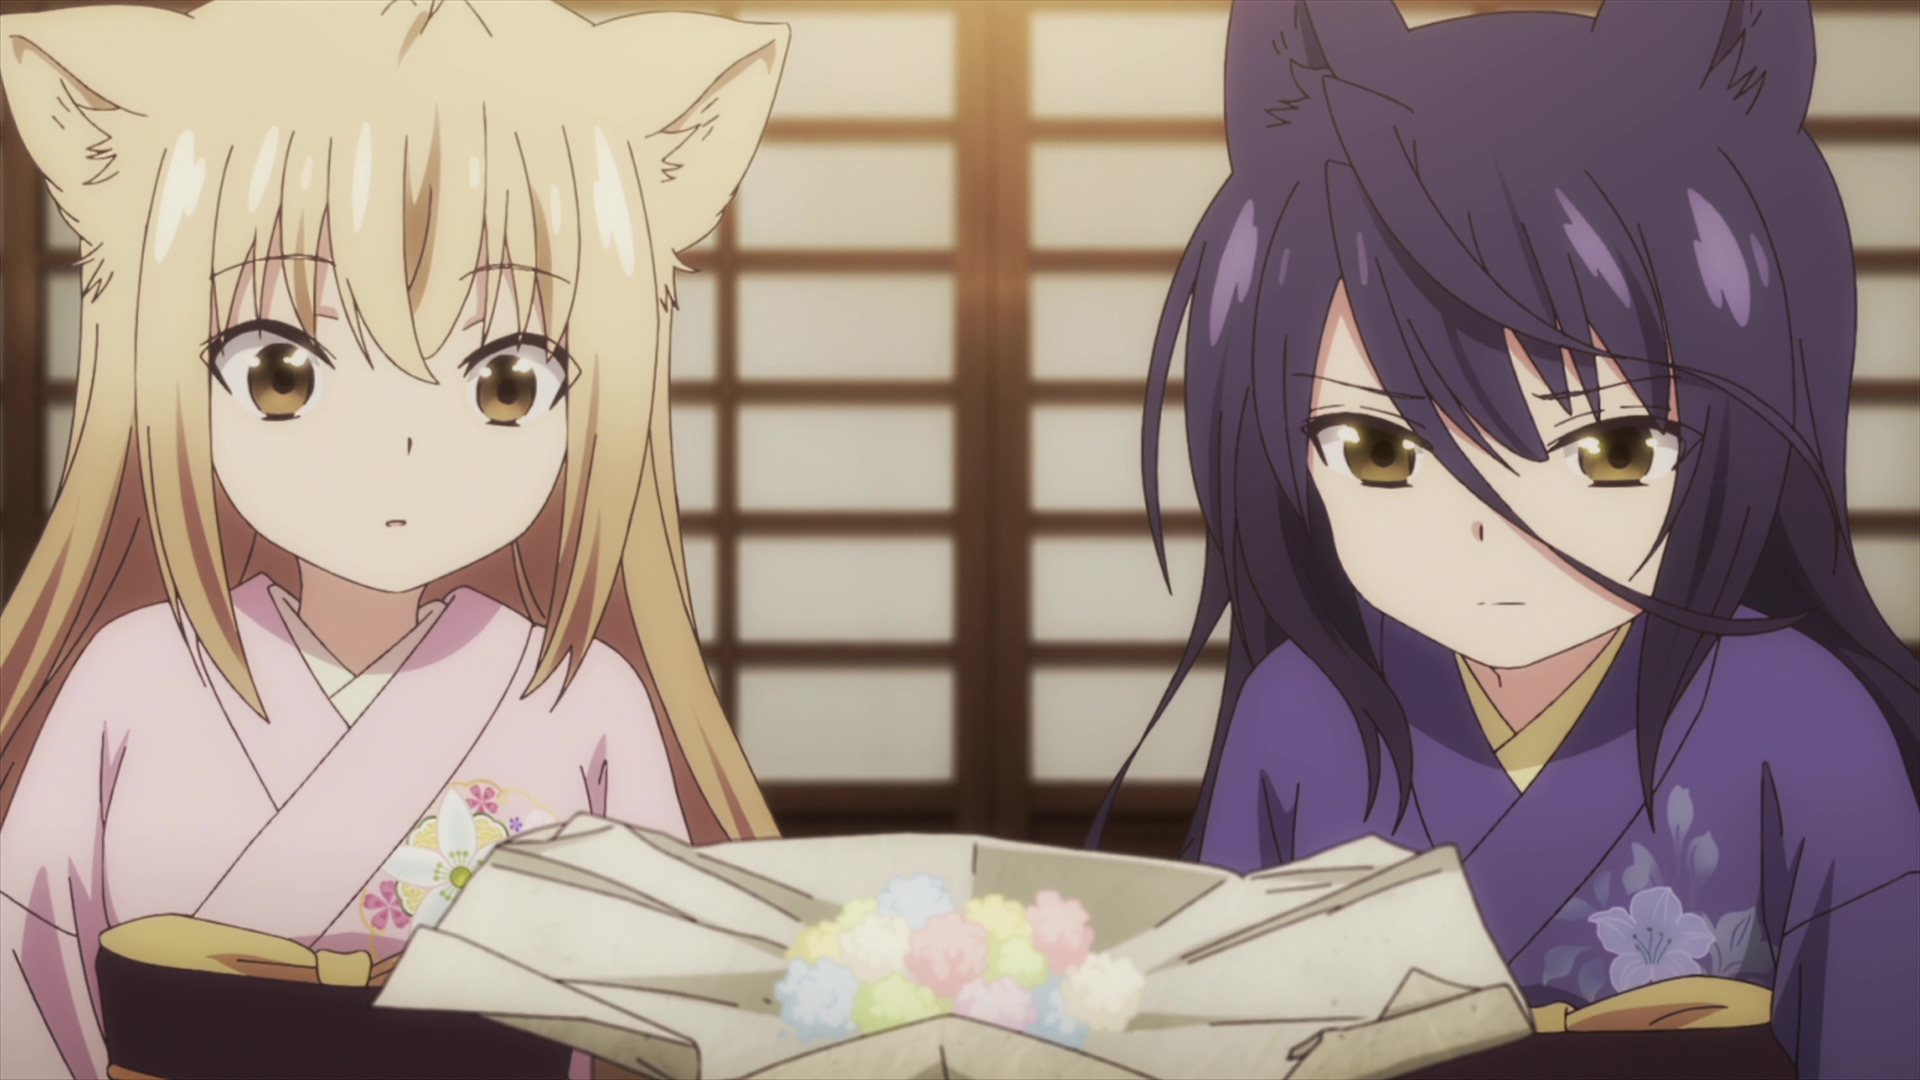柚: (1, 1, 793, 1080)
皋: (1085, 1, 1920, 1080)
